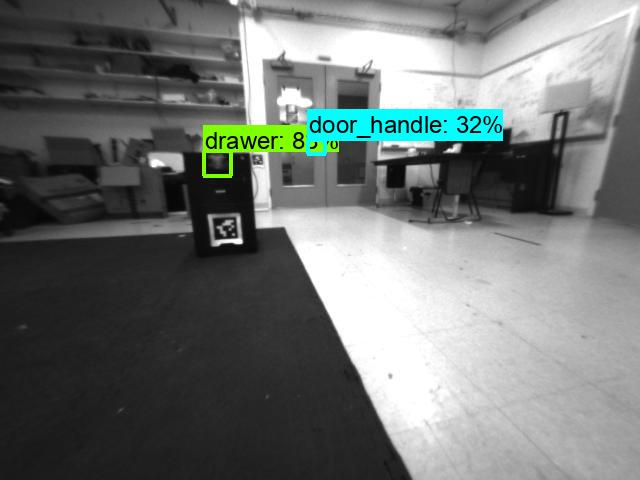door_handle: (307, 140, 326, 155)
drawer: (202, 151, 231, 174)
